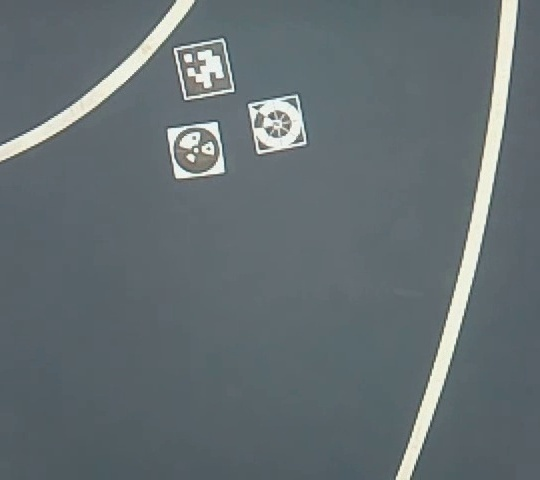landing-zone: (247, 91, 311, 158)
